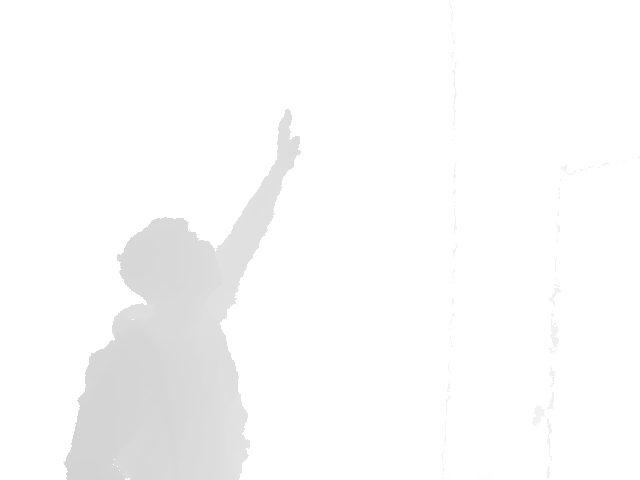hand: (275, 108, 303, 171)
head: (117, 216, 225, 304)
person: (62, 108, 302, 479)
